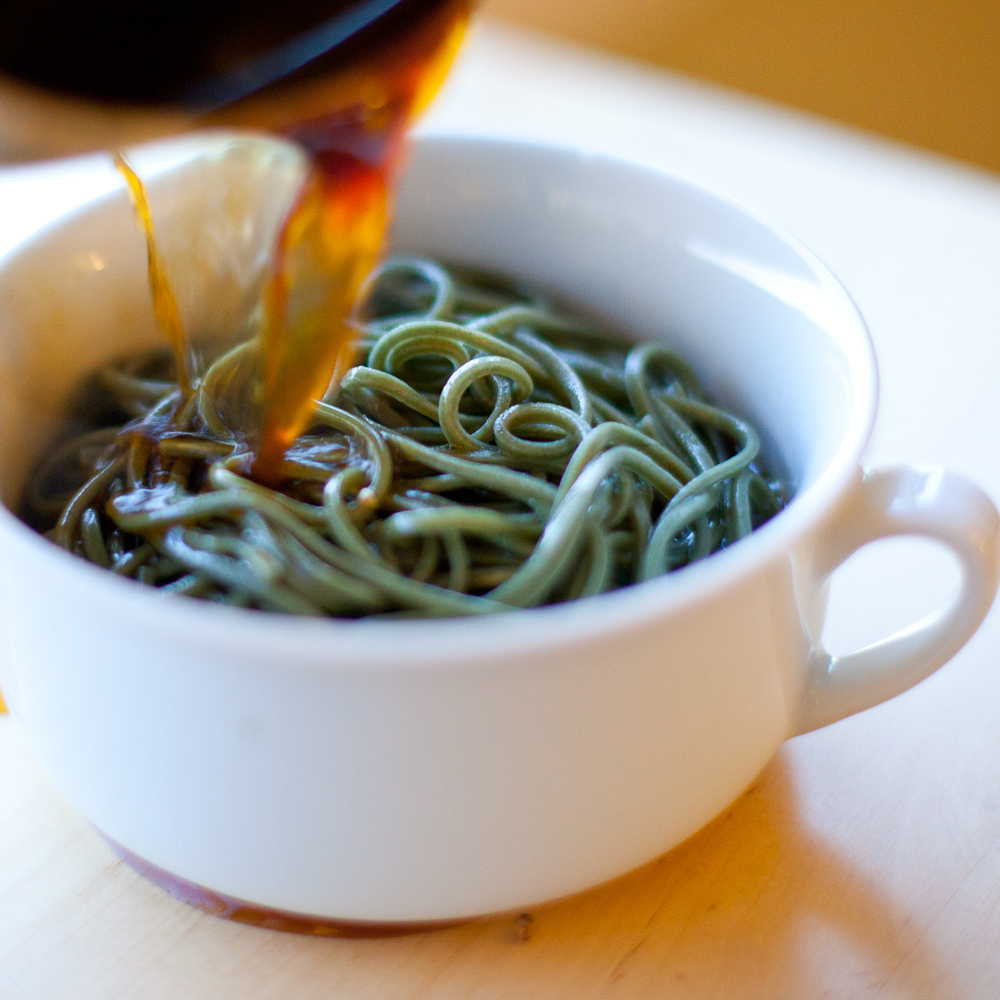Soba: (67, 250, 785, 650)
